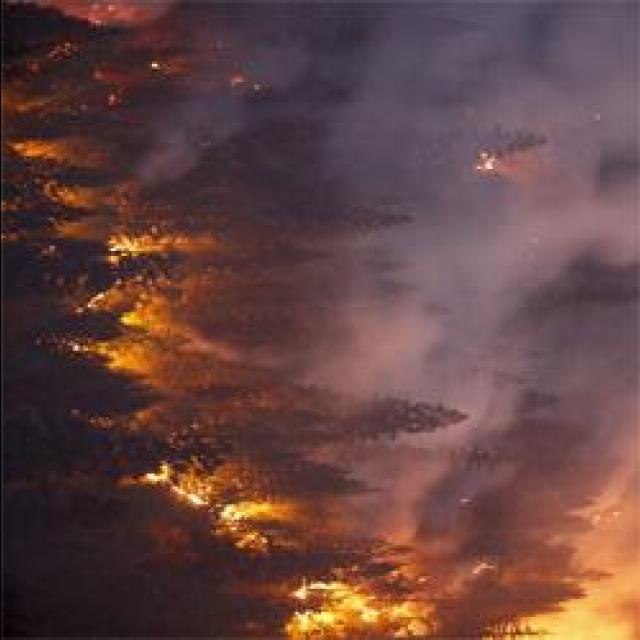fire: (277, 578, 428, 640)
smoke: (372, 4, 634, 294), (297, 301, 501, 547), (123, 0, 315, 212), (530, 312, 634, 514)
